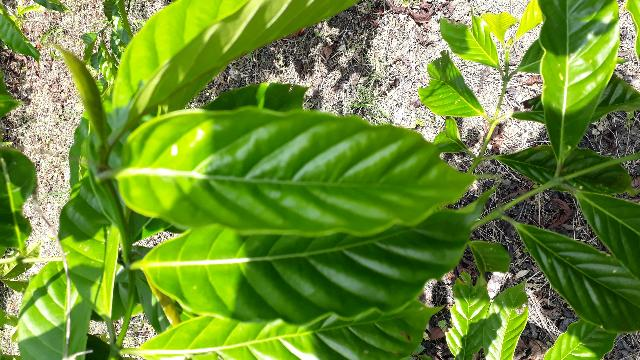healthy: (122, 106, 489, 235)
